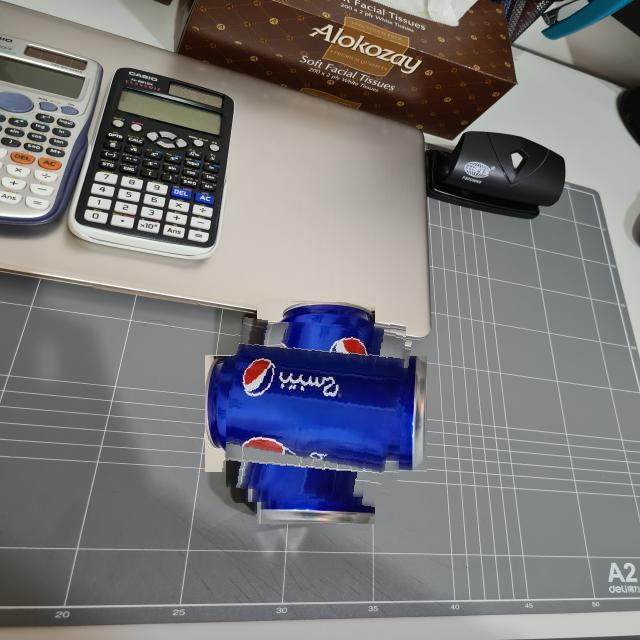recyclable: (226, 322, 407, 504)
